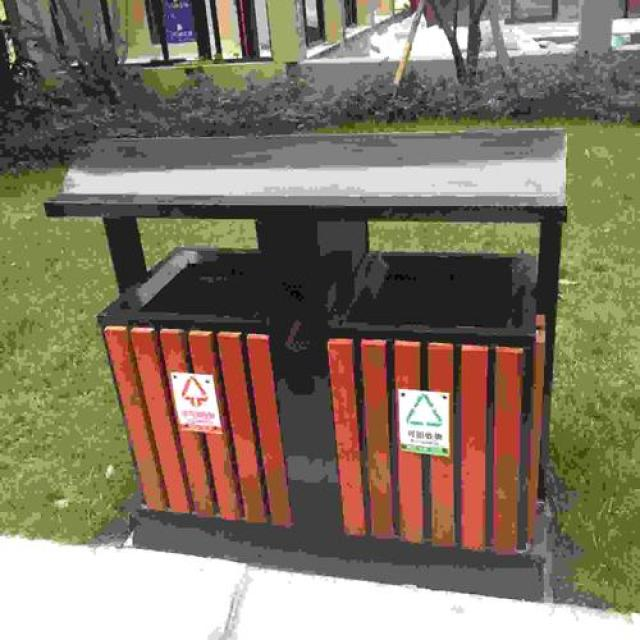garbage_bin: (44, 126, 567, 602)
